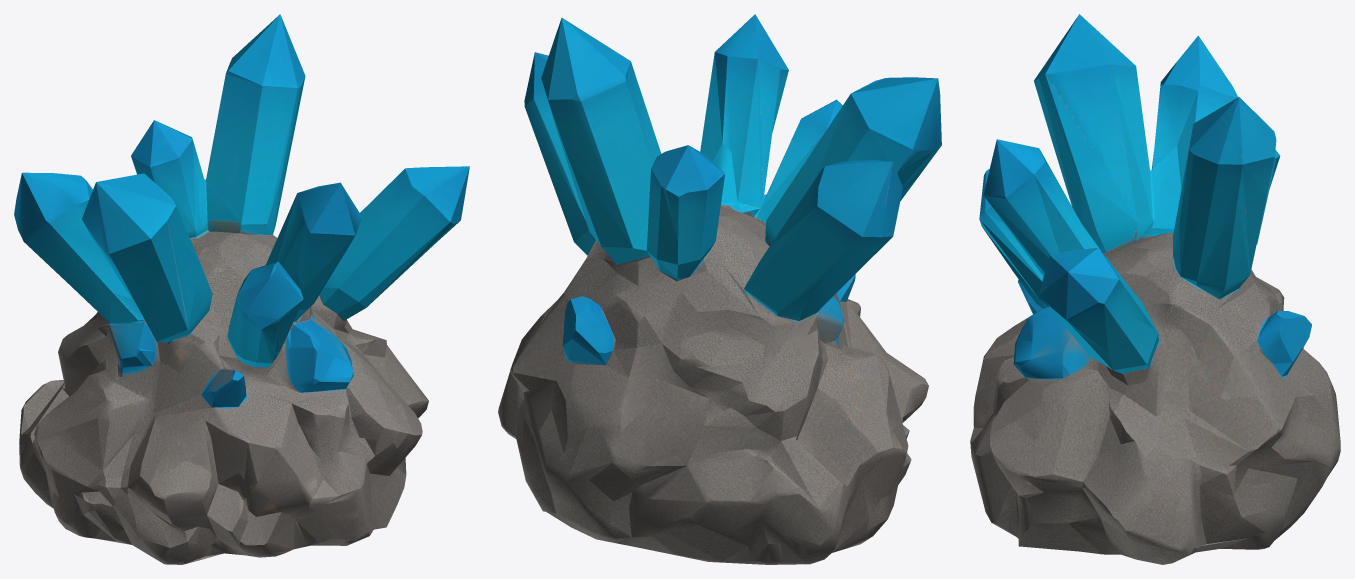
File: crystal-cluster.hq.glb
3 renders of one model, left to right at view 1: azimuth 30°, elevation 25°; view 2: azimuth 150°, elevation 25°; view 3: azimuth 270°, elevation 25°, orthographic. The views are drawn at different scales.
Parts seen in each view (by area): view 1: output_unwrapped; view 2: output_unwrapped; view 3: output_unwrapped.
Part boxes in pixels (left/top/right/bottom): output_unwrapped: left=14, top=14, right=469, bottom=564; output_unwrapped: left=498, top=14, right=941, bottom=564; output_unwrapped: left=970, top=14, right=1340, bottom=564.
Size of the model in its own units: 1.76 by 1.9 by 1.41.
Materials: 1 (1 with a texture image).
